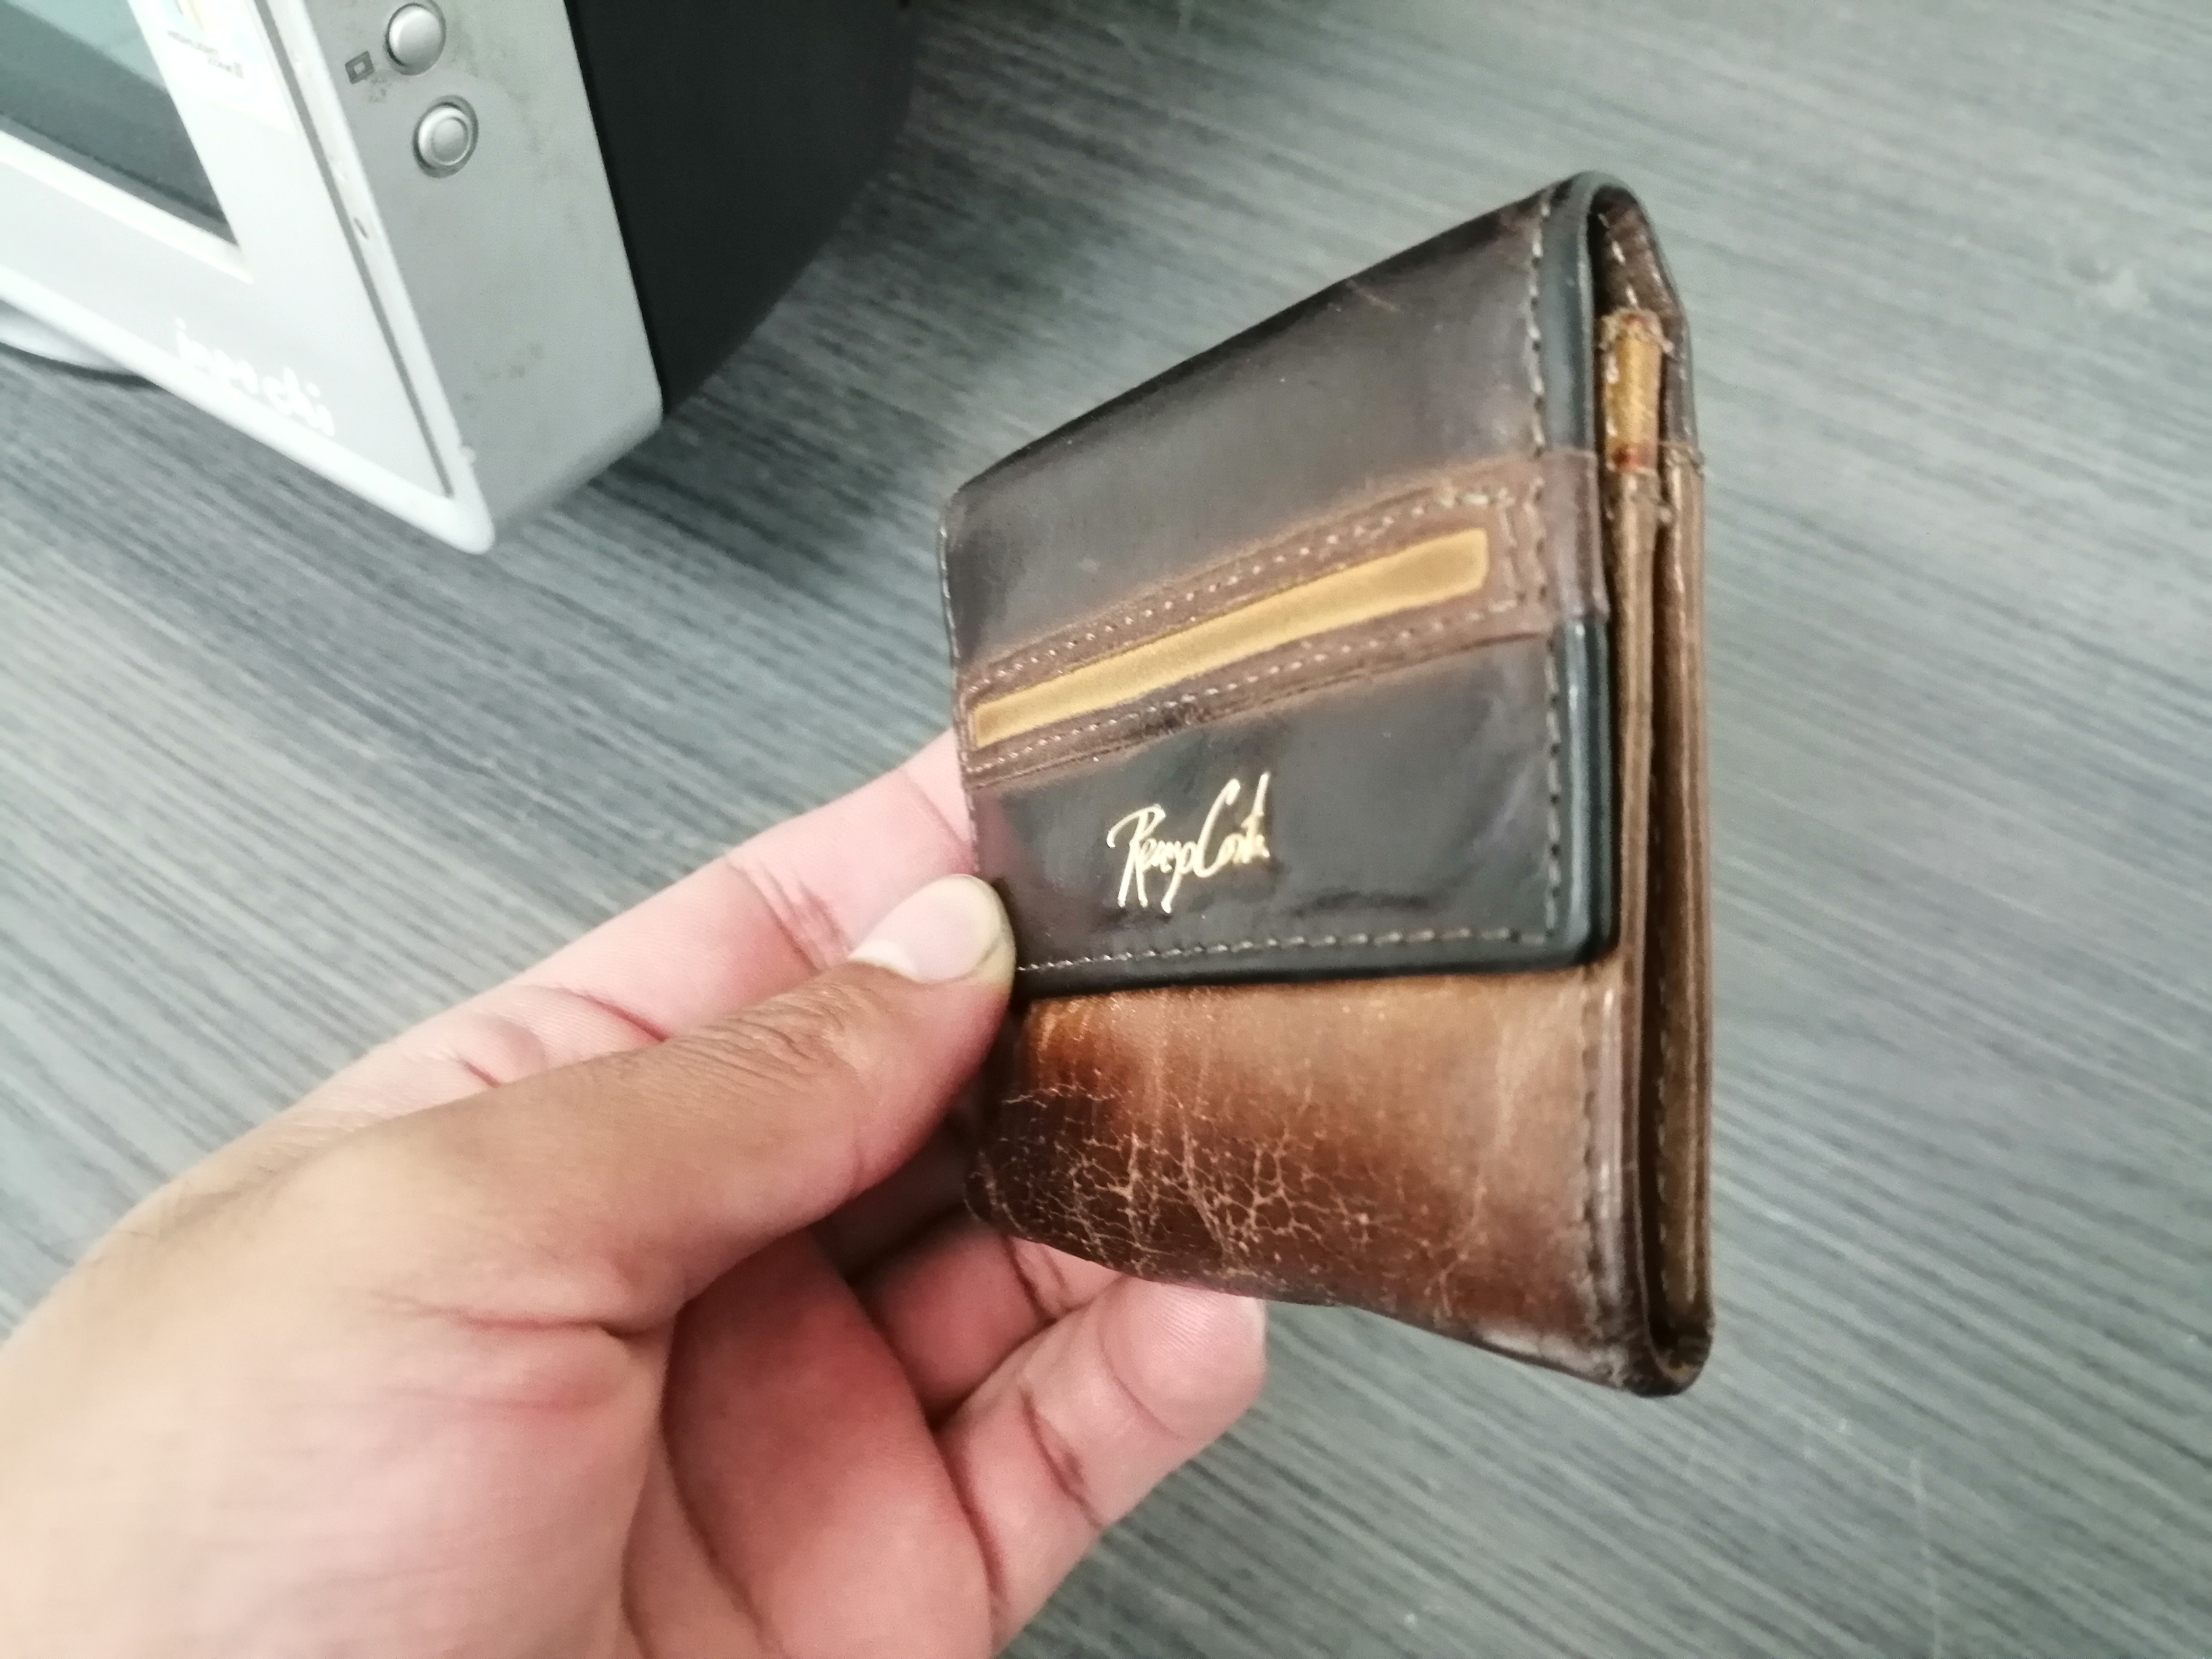monedero: (913, 153, 1738, 1412)
